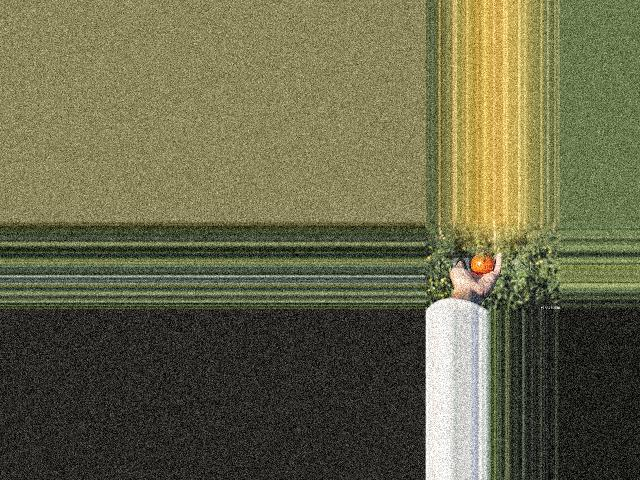tomato: (471, 252, 495, 273)
